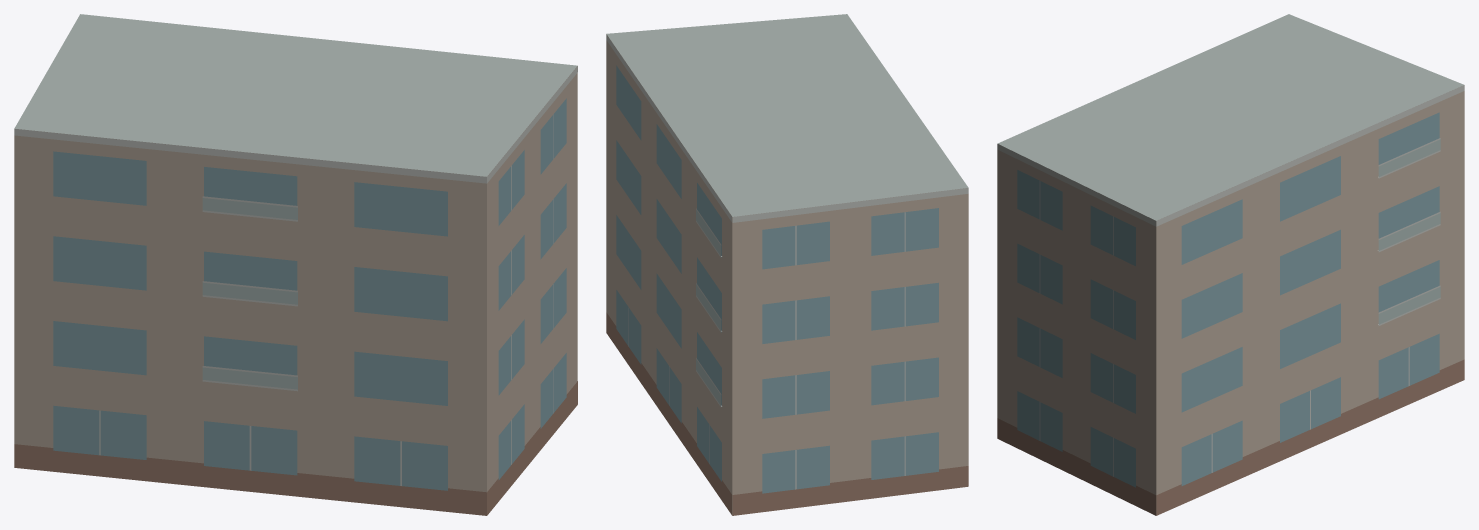
The model's file is survey-upis-32652039.glb.
3 renders of one model, left to right at view 1: azimuth 30°, elevation 25°; view 2: azimuth 150°, elevation 25°; view 3: azimuth 270°, elevation 25°, orthographic. The views are drawn at different scales.
Parts seen in each view (by area): view 1: survey-upis-32652039.tmp; view 2: survey-upis-32652039.tmp; view 3: survey-upis-32652039.tmp.
Boxes of the visible parts, x1,y1,x2,y2 form: survey-upis-32652039.tmp: (14, 14, 577, 515); survey-upis-32652039.tmp: (606, 14, 968, 515); survey-upis-32652039.tmp: (997, 14, 1464, 515).
Size of the model in its own units: 18.36 by 12.2 by 17.52.
